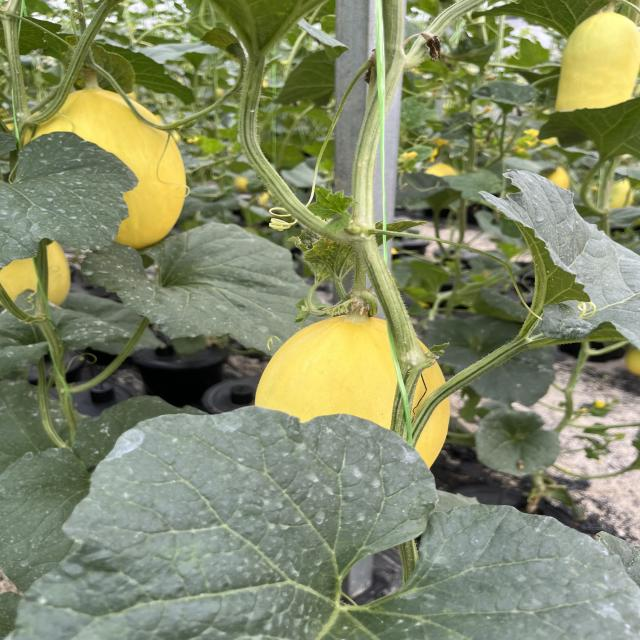SLCV: (304, 217, 427, 281)
bacterial wilt: (416, 28, 459, 58)
healthy: (80, 222, 312, 356), (478, 167, 640, 353), (0, 130, 137, 274), (179, 0, 312, 53)
powdery mildew: (5, 403, 640, 640), (0, 290, 136, 381)
